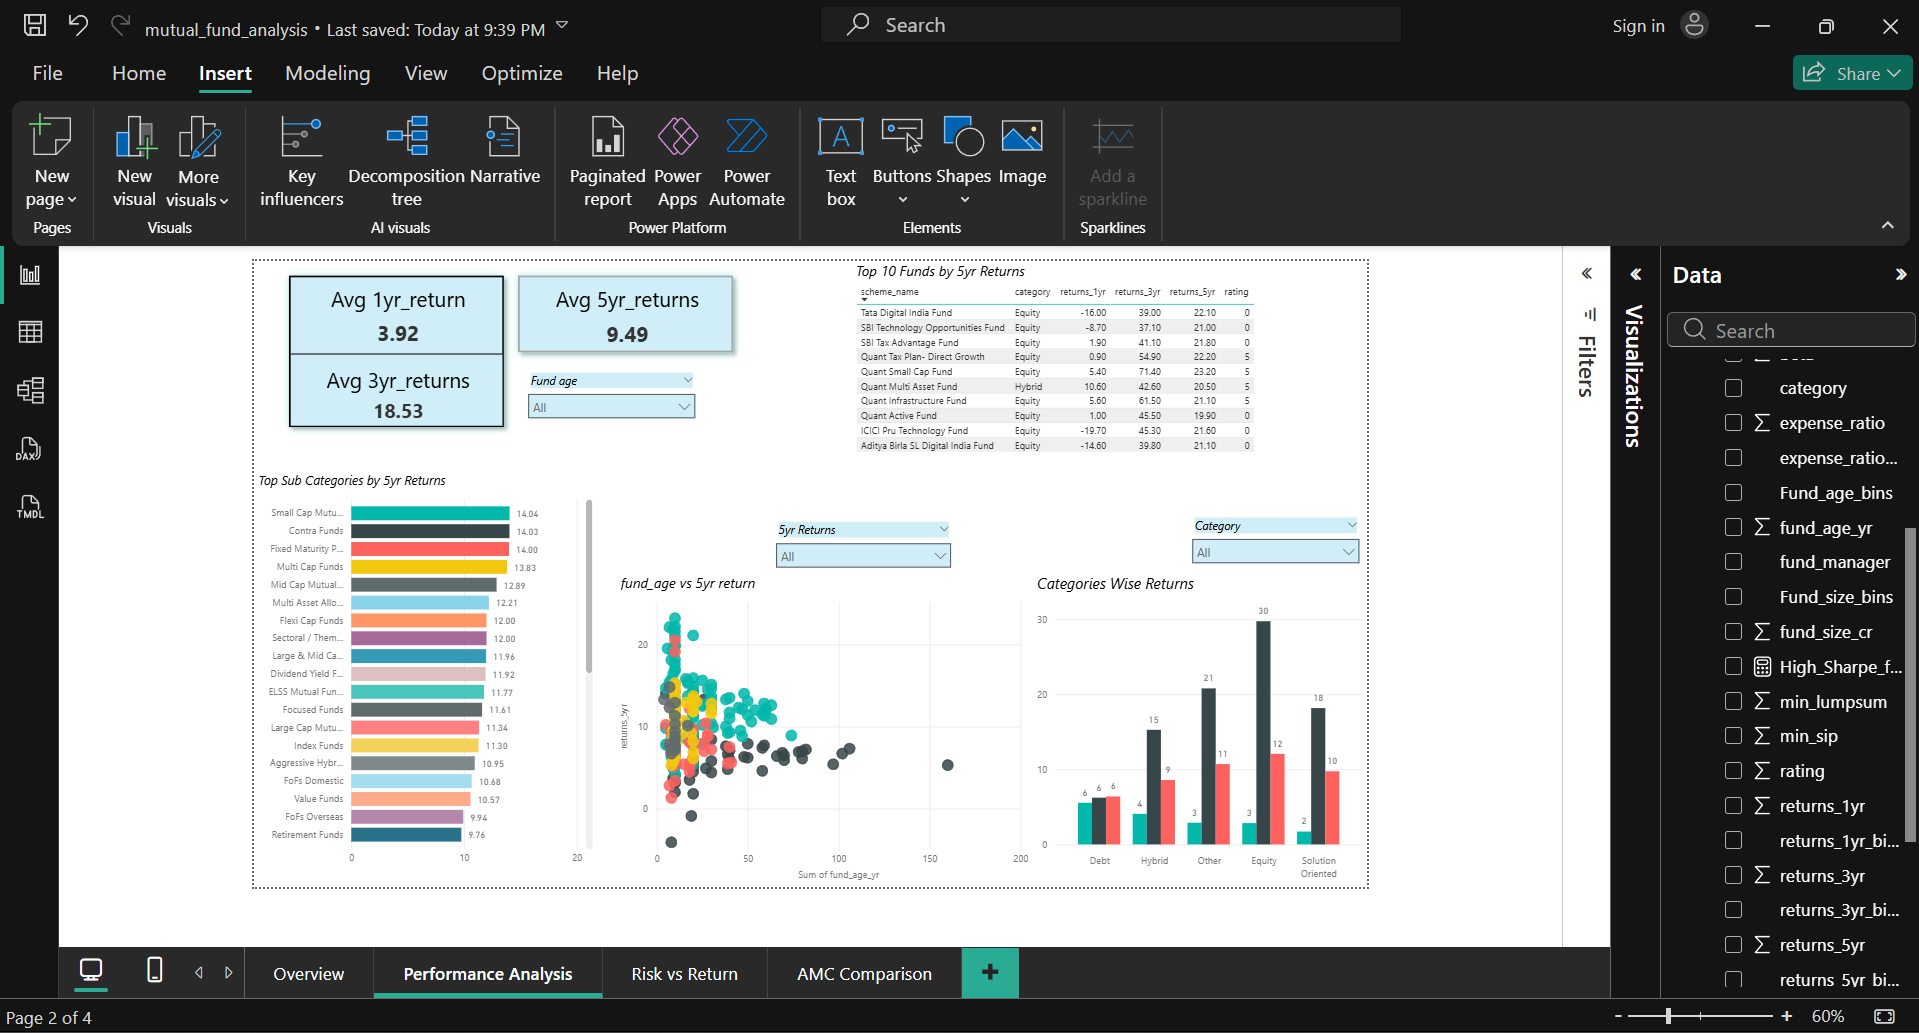

This screenshot's page, from the dashboard's own definition file:
{"tool":"powerbi","page":{"name":"Performance Analysis","canvas":[1280,720],"ordinal":1},"visuals":[{"type":"cardVisual","fields":{"Data":["comprehensive_mutual_funds_data.Avg 1yr_return"]},"box":[23,0,281.6,209],"z":0},{"type":"cardVisual","fields":{"Data":["comprehensive_mutual_funds_data.Avg 5yr_returns"]},"box":[286.2,0,281.7,122.7],"z":1000},{"type":"clusteredColumnChart","title":"Categories Wise Returns ","fields":{"Category":["comprehensive_mutual_funds_data.category"],"Y":["comprehensive_mutual_funds_data.Avg 1yr_return","comprehensive_mutual_funds_data.Avg 3yr_returns","comprehensive_mutual_funds_data.Avg 5yr_returns"]},"box":[895,358.9,384.7,360.4],"z":2000},{"type":"scatterChart","title":"fund_age vs 5yr return ","fields":{"Series":["comprehensive_mutual_funds_data.category"],"X":["Sum(comprehensive_mutual_funds_data.fund_age_yr)"],"Y":["comprehensive_mutual_funds_data.returns_5yr"]},"box":[416.1,358.9,478.6,358.9],"z":3000},{"type":"barChart","title":"Top Sub Categories by 5yr Returns","fields":{"Y":["Avg(comprehensive_mutual_funds_data.returns_5yr)"],"Category":["comprehensive_mutual_funds_data.sub_category"],"Series":["comprehensive_mutual_funds_data.sub_category"]},"box":[0,241.1,394.6,462.5],"z":4000},{"type":"slicer","fields":{"Values":["comprehensive_mutual_funds_data.category"]},"box":[1067.7,289.3,212,69.7],"z":5000},{"type":"slicer","fields":{"Values":["comprehensive_mutual_funds_data.returns_5yr_bins"]},"box":[590.6,295.3,221.1,65.1],"z":6000},{"type":"slicer","fields":{"Values":["comprehensive_mutual_funds_data.Fund_age_bins"]},"box":[304.4,122.7,212,66.6],"z":7000},{"type":"tableEx","title":"Top 10 Funds by 5yr Returns","fields":{"Values":["comprehensive_mutual_funds_data.scheme_name","comprehensive_mutual_funds_data.category","comprehensive_mutual_funds_data.returns_1yr","comprehensive_mutual_funds_data.returns_3yr","comprehensive_mutual_funds_data.returns_5yr","comprehensive_mutual_funds_data.rating"]},"box":[687.2,0,593.3,240.9],"z":8000}]}

Visuals, with their boxes on the page's 1280x720 design canvas (x1, y1, x2, y2). These are canvas units, not pixel positions in the 1919x1033 screenshot, which may show the page scaled, cropped or inside an application window:
cardVisual - comprehensive_mutual_funds_data.Avg 1yr_return: locate(23, 0, 305, 209)
cardVisual - comprehensive_mutual_funds_data.Avg 5yr_returns: locate(286, 0, 568, 123)
"Categories Wise Returns " clusteredColumnChart: locate(895, 359, 1280, 719)
"fund_age vs 5yr return " scatterChart: locate(416, 359, 895, 718)
"Top Sub Categories by 5yr Returns" barChart: locate(0, 241, 395, 704)
slicer - comprehensive_mutual_funds_data.category: locate(1068, 289, 1280, 359)
slicer - comprehensive_mutual_funds_data.returns_5yr_bins: locate(591, 295, 812, 360)
slicer - comprehensive_mutual_funds_data.Fund_age_bins: locate(304, 123, 516, 189)
"Top 10 Funds by 5yr Returns" tableEx: locate(687, 0, 1280, 241)
